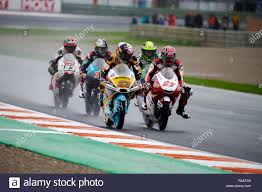helmet: (160, 44, 181, 69), (141, 41, 157, 65), (62, 36, 78, 55), (92, 39, 108, 57), (117, 45, 132, 62)
